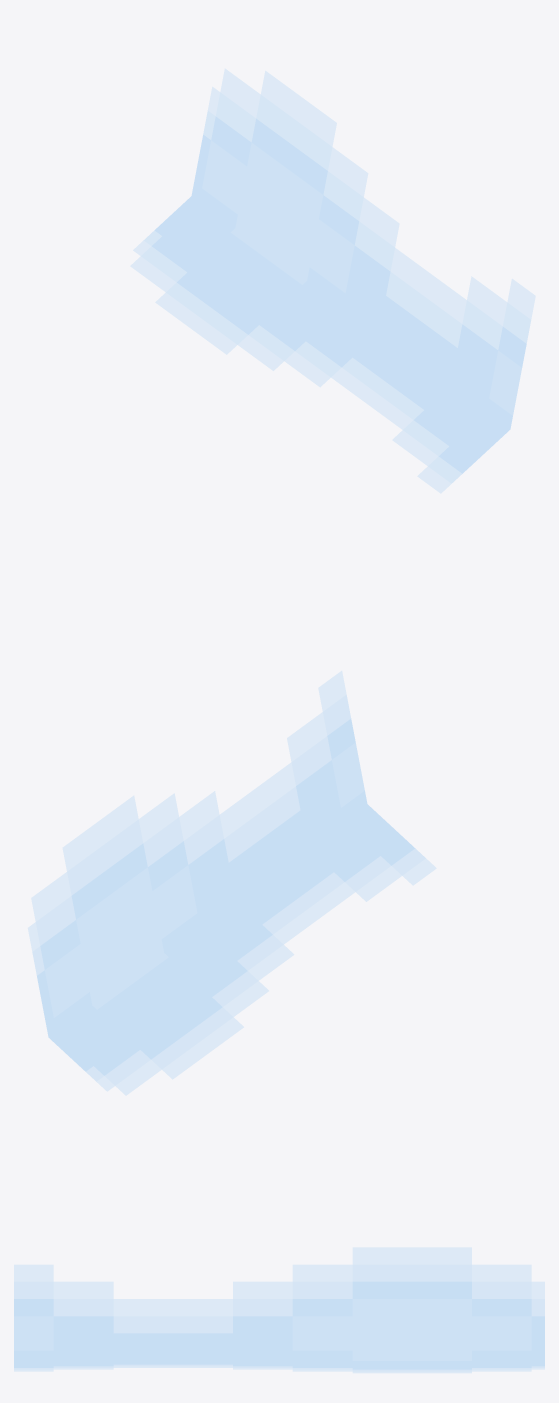
3 views of the same model, one above another, from view 1: azimuth 30°, elevation 25°; view 2: azimuth 150°, elevation 25°; view 3: azimuth 270°, elevation 25° (orthographic). The views are drawn at different scales.
Bounding box in the file's own units: 0.3838 × 0.5088 × 1.
Materials: 1 (1 with a texture image).
